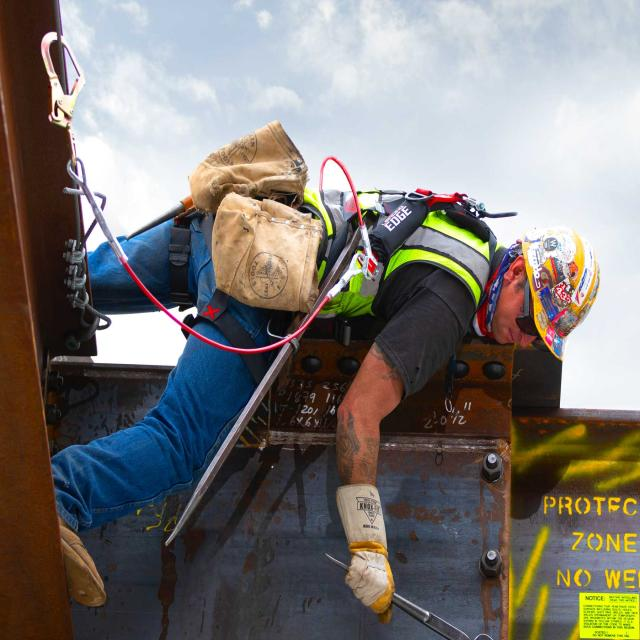harness: (34, 22, 382, 354)
